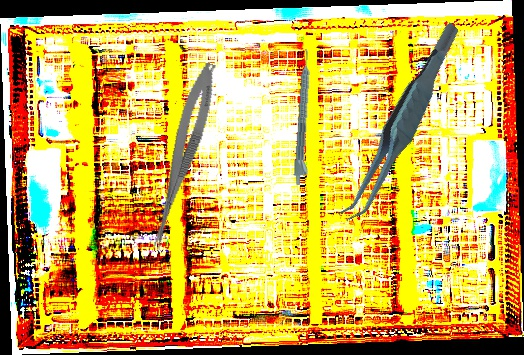Handpiece: (292, 49, 318, 186)
Micro Scissor: (144, 59, 223, 258)
Tissue Forceps: (305, 20, 497, 228)
